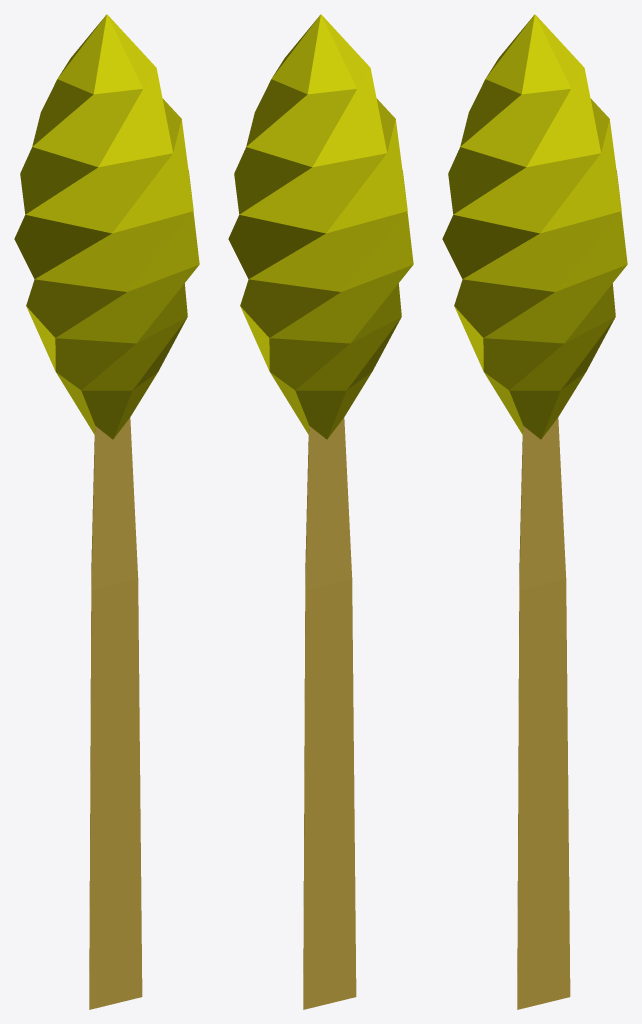
The model's file is WheatCluster.fbx.
3 views of the same model, side by side, from view 1: azimuth 30°, elevation 25°; view 2: azimuth 150°, elevation 25°; view 3: azimuth 270°, elevation 25° (orthographic).
Parts seen in each view (by area): view 1: seed pod, stalk; view 2: seed pod, stalk; view 3: seed pod, stalk.
Part boxes in pixels (x1,y1,x2,y2): seed pod: (14,14,199,439); stalk: (89,417,142,1009); seed pod: (228,14,413,439); stalk: (303,417,356,1009); seed pod: (442,14,627,439); stalk: (517,417,570,1009).
Bounding box in the file's own units: 201 × 1122 × 192.
